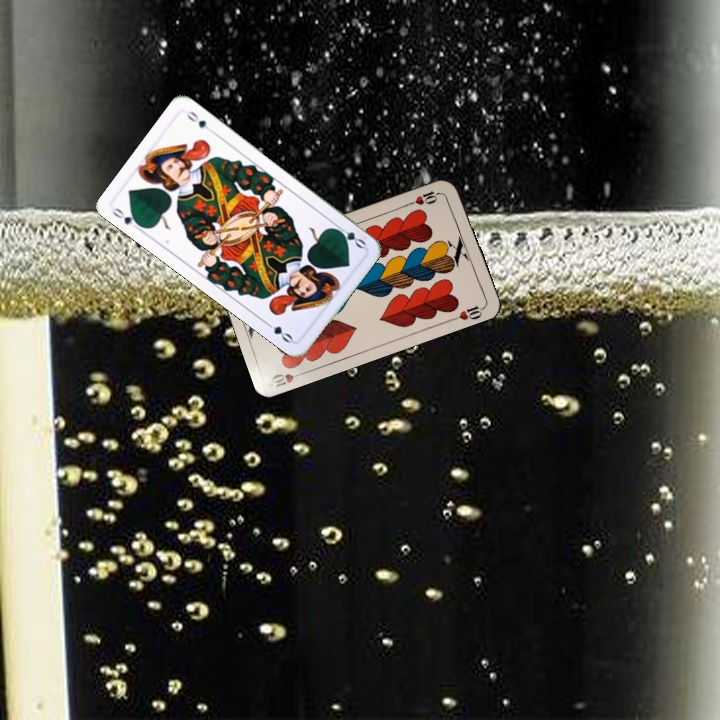GO: (108, 203, 146, 234), (330, 221, 368, 251)
H10: (268, 368, 308, 390), (404, 187, 444, 207)
